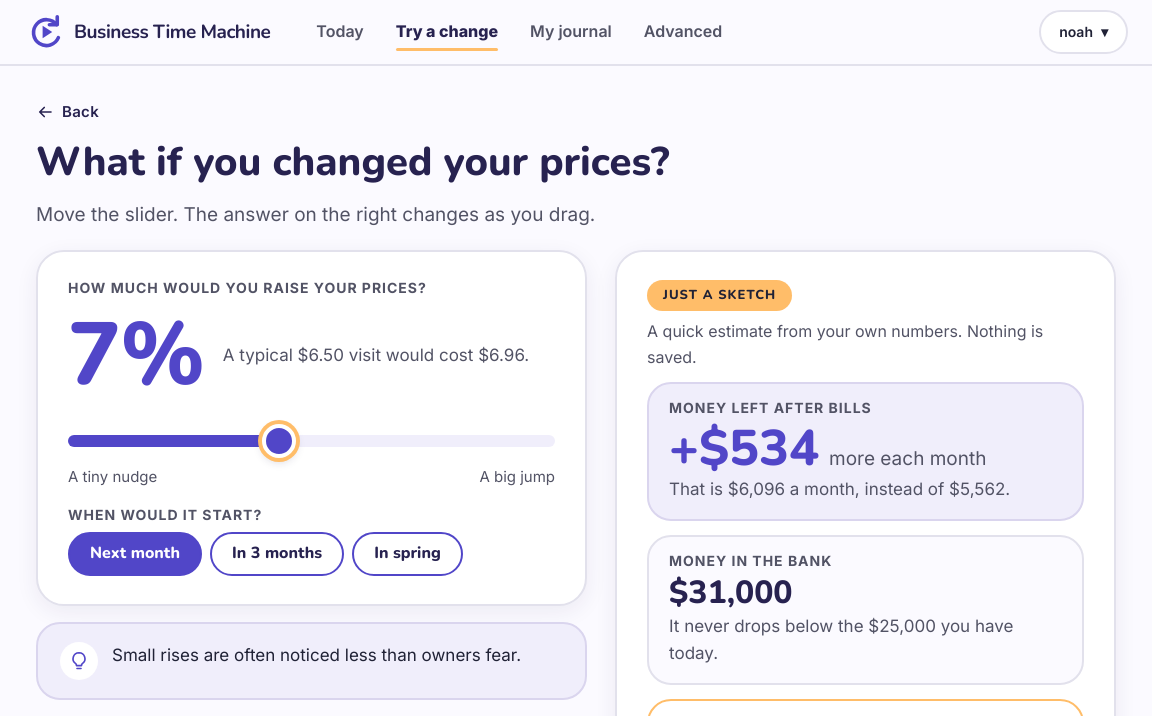
Test: the nav and the links between the pages › 'Watch the next 12 months' goes to the timeline for the same change, and Back returns to Try
The image size is (1152, 716).
Set the slider to "12" at [446, 441], box [68,417,555,465]
Wait 250 ms
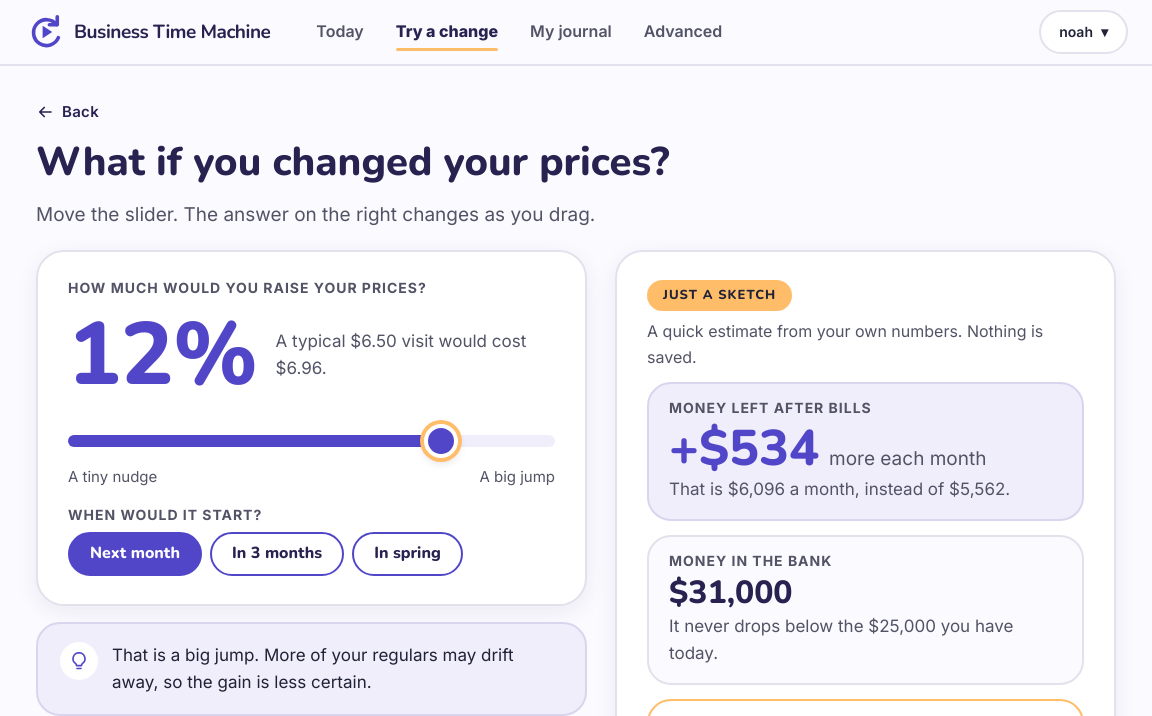
Click the button "In 3 months" at [277, 554], box [210,532,344,576]
Wait 250 ms
(page scrolled)
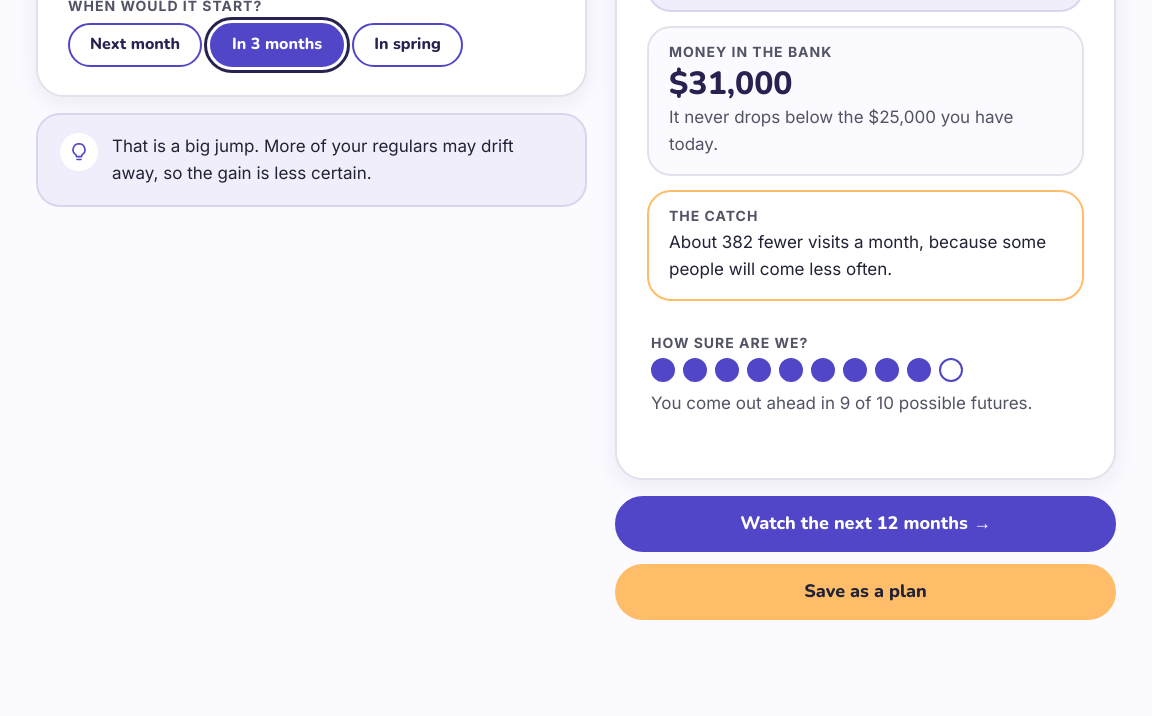
Click the link "Watch the next 12 months →" at [866, 524], box [615,496,1116,552]
(page scrolled)
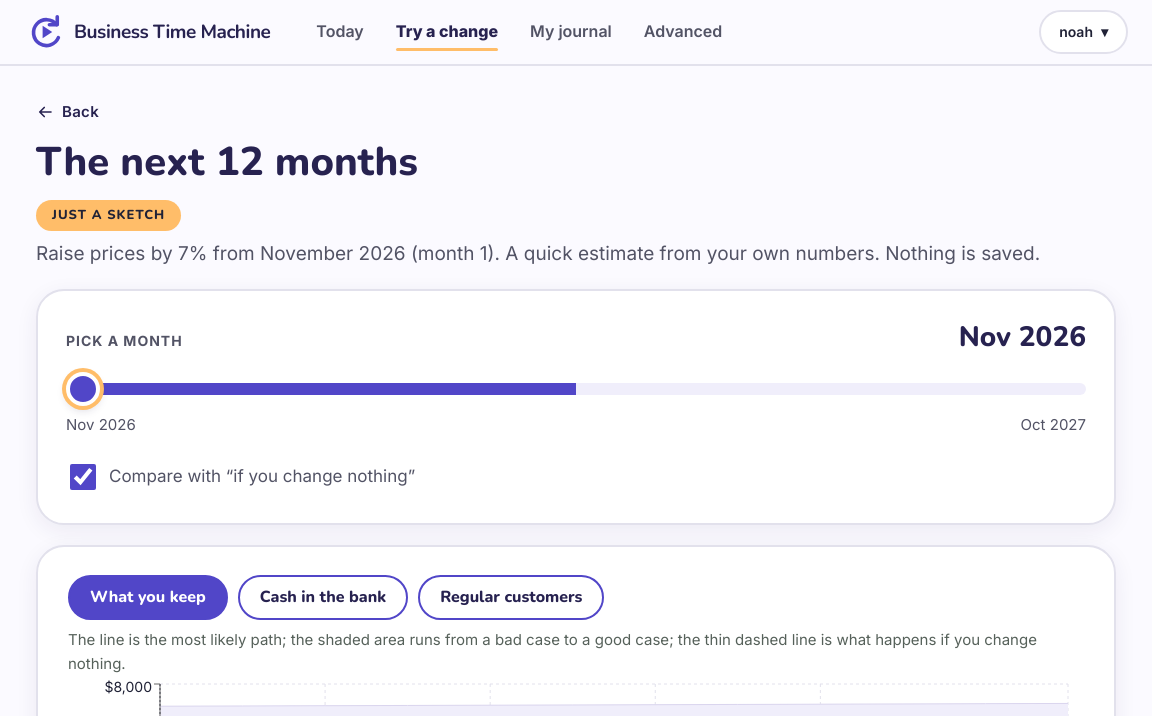
Now the heading "The next 12 months" is shown, box [36,135,418,189]
Click the button with aria-label "Go back" at [70, 112], box [28,90,113,134]
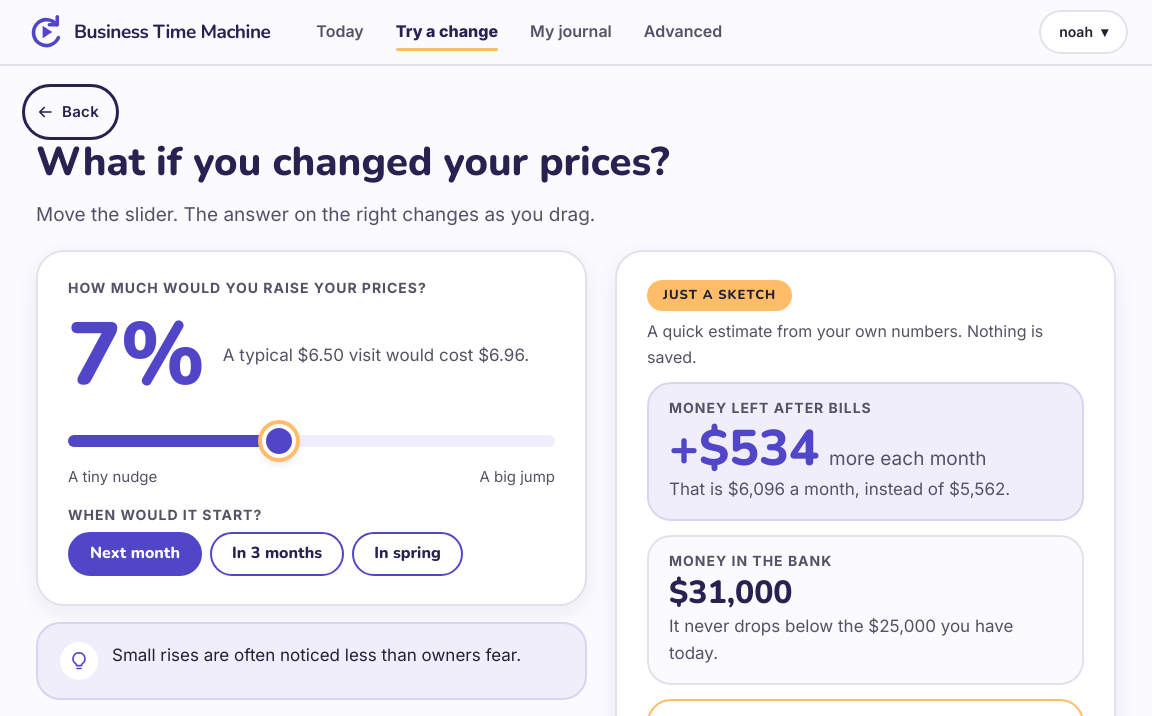
Now the heading "What if you changed your prices?" is shown, box [36,135,670,189]
